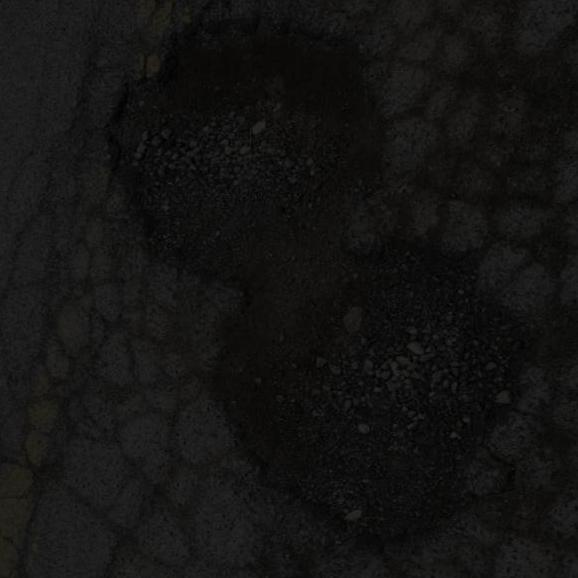pothole: (189, 205, 521, 561), (72, 14, 377, 294)
